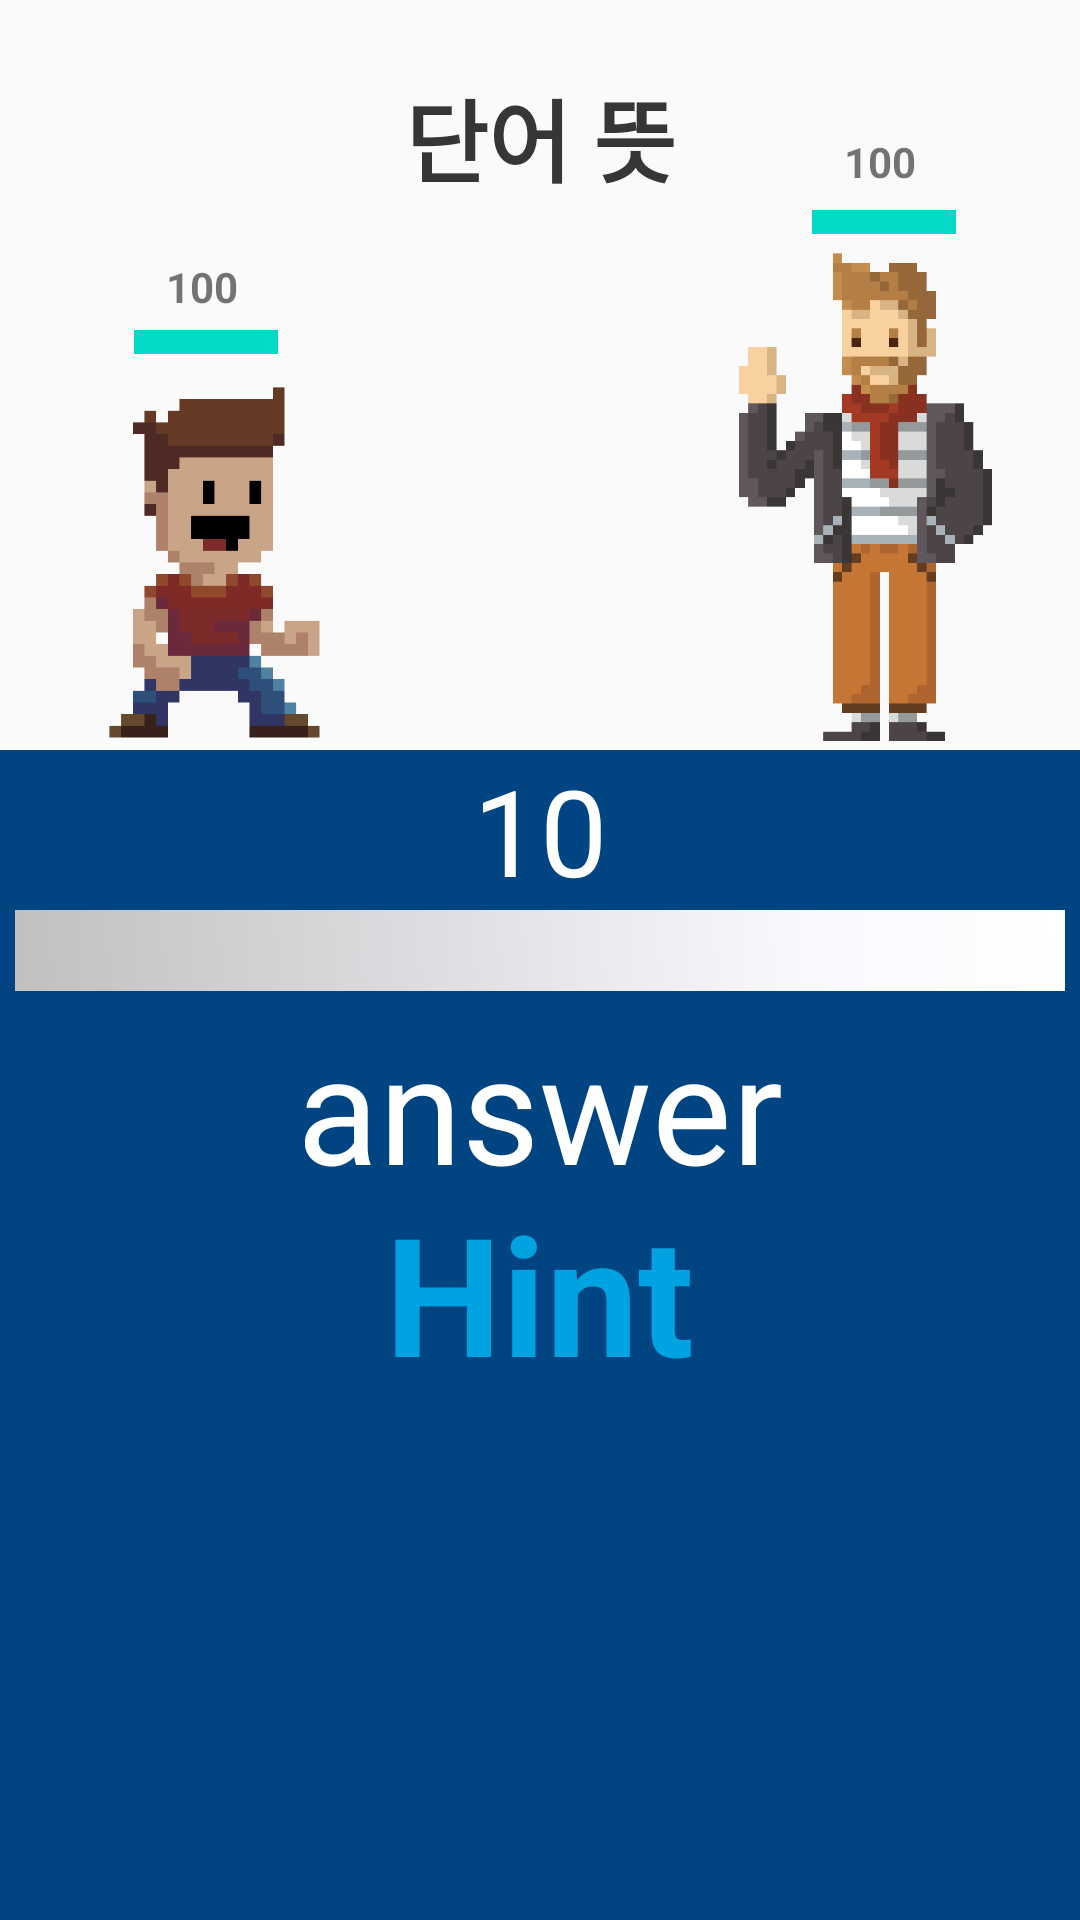

Named icons in this screenshot (1080*1920) and their centers, point (x, y):
player: point (214, 562)
